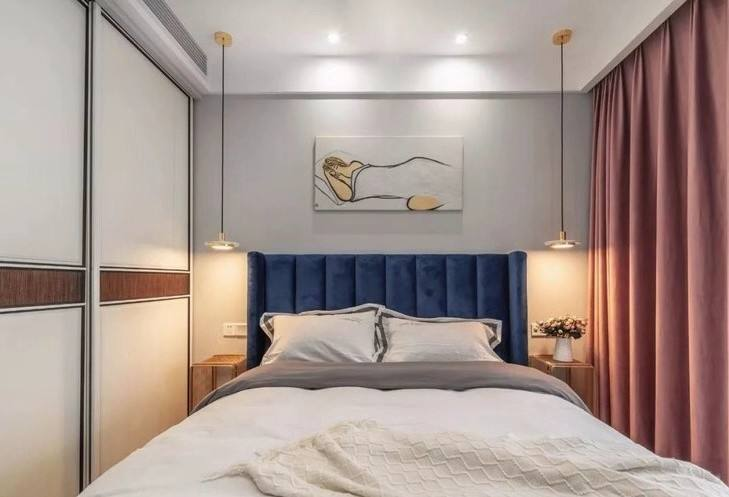床: (87, 365, 716, 497)
枕头: (257, 308, 506, 379)
灯: (210, 33, 237, 254), (553, 33, 580, 252), (323, 27, 344, 51), (453, 30, 473, 50)
